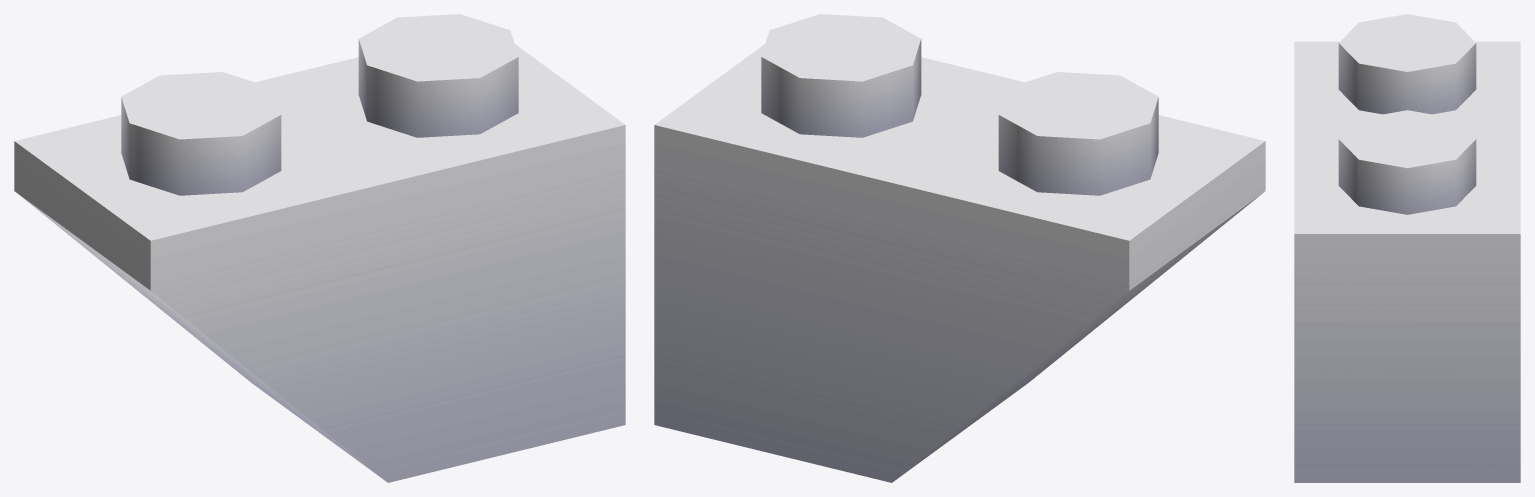
The model's file is round-lq-brick-slope-inverted-1x2.glb.
3 views of the same model, side by side, from view 1: azimuth 30°, elevation 25°; view 2: azimuth 150°, elevation 25°; view 3: azimuth 270°, elevation 25° (orthographic). The views are drawn at different scales.
Visible parts, largest first — view 1: round-lq-brick-slope-inverted-1x2; view 2: round-lq-brick-slope-inverted-1x2; view 3: round-lq-brick-slope-inverted-1x2.
Boxes of the visible parts, <box> form: round-lq-brick-slope-inverted-1x2: <box>14,14,625,482</box>; round-lq-brick-slope-inverted-1x2: <box>654,14,1265,482</box>; round-lq-brick-slope-inverted-1x2: <box>1294,14,1520,482</box>.
Bounding box in the file's own units: 0.159 × 0.114 × 0.079.
1 material, 1 textured.
